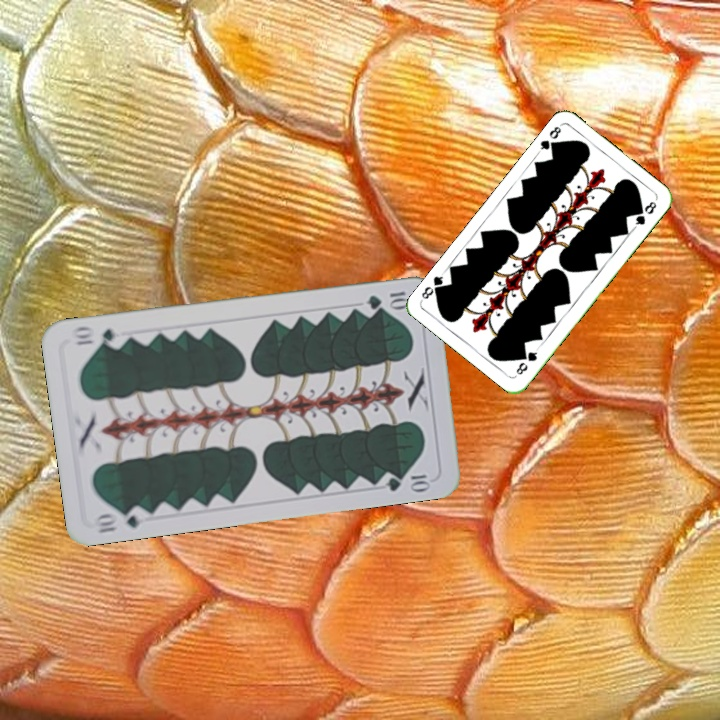G10: (93, 503, 148, 536), (362, 287, 412, 312)
G8: (534, 121, 564, 155), (512, 344, 541, 378)
